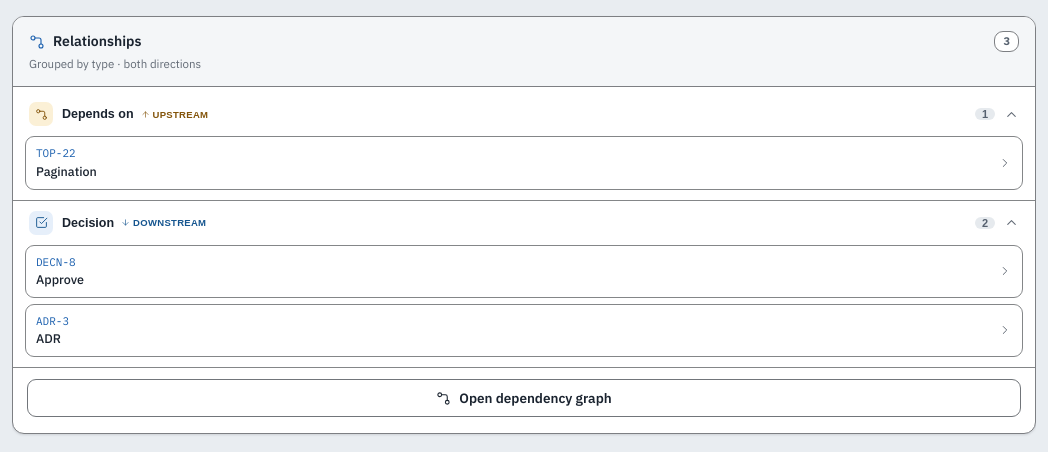
RelationshipsAside (P10f) › collapses and expands a group via its toggle button
The image size is (1048, 452).
Step 1. Click the button "Depends on Upstream 1" → (98, 114), box [13,92,1035,136]
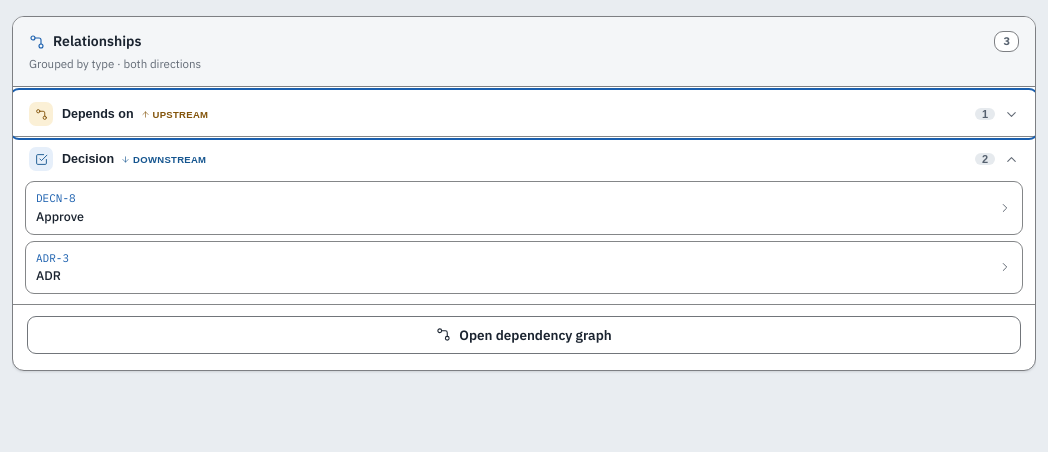
Expected: the button "Depends on Upstream 1" is collapsed, [13,92,1035,136]
Expected: the link "TOP-22" is gone
